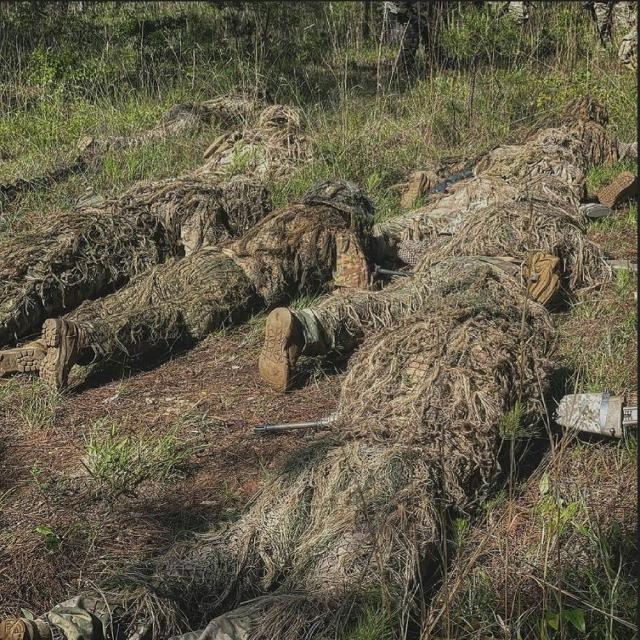Camouflage: (40, 281, 622, 618), (2, 104, 314, 351), (39, 179, 370, 391), (258, 198, 607, 394), (362, 119, 640, 272)
